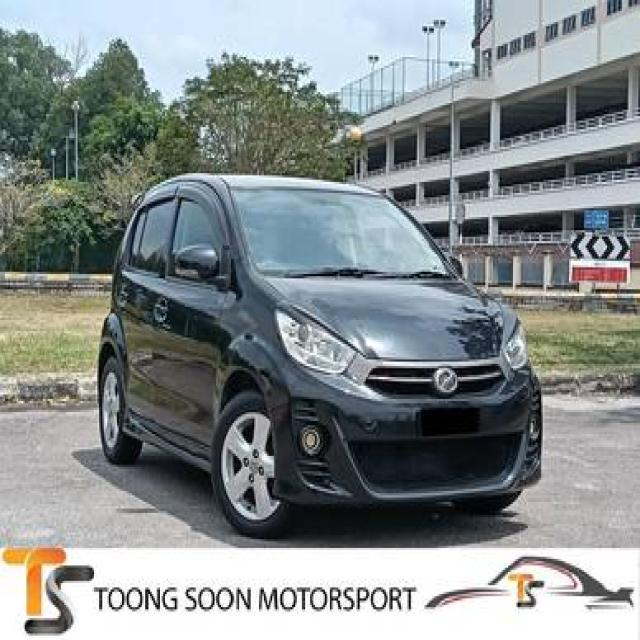PeroduaMyvi: (93, 169, 544, 537)
